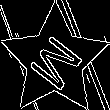M_SE: (22, 27, 88, 94)
